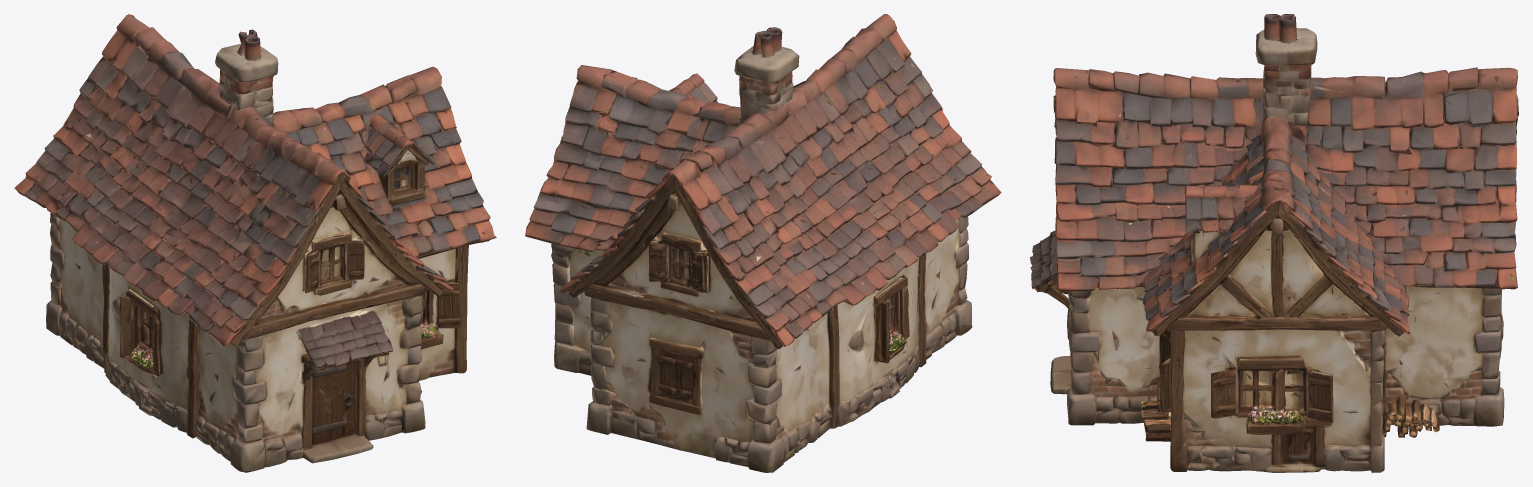
Rendered from grandpa_house.glb.
3 views of the same model, side by side, from view 1: azimuth 30°, elevation 25°; view 2: azimuth 150°, elevation 25°; view 3: azimuth 270°, elevation 25° (orthographic). The views are drawn at different scales.
Visible parts, largest first — view 1: src; view 2: src; view 3: src.
Boxes of the visible parts, x1=… form: src: x1=14, y1=14, x2=496, y2=472; src: x1=525, y1=14, x2=1001, y2=472; src: x1=1030, y1=14, x2=1518, y2=472.
Size of the model in its own units: 1.56 by 1.58 by 1.9.
Materials: 1 (1 with a texture image).
